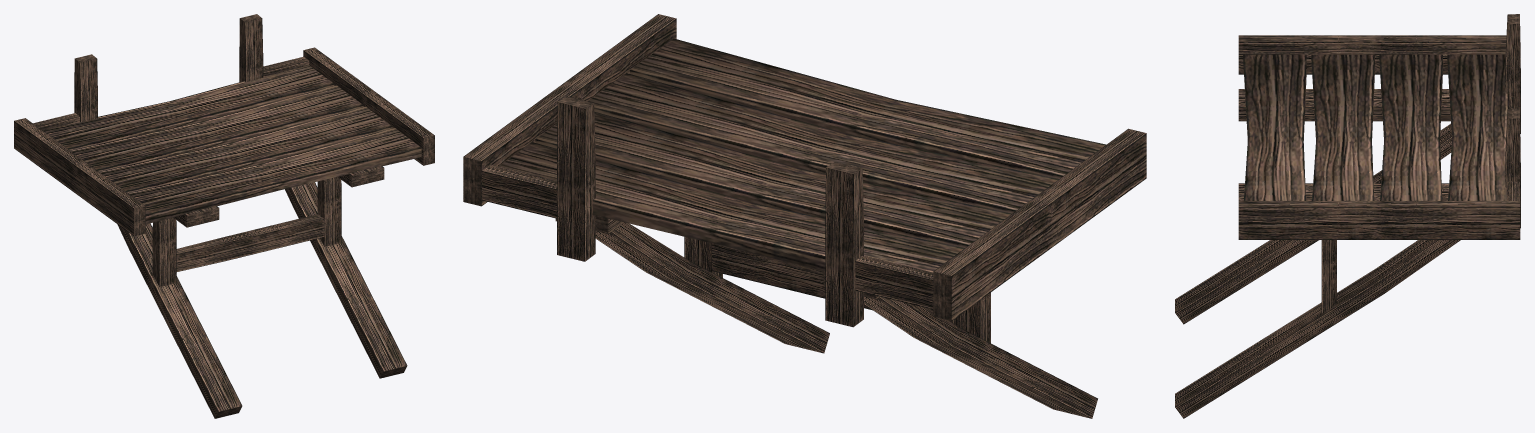
The model's file is CB_LOOKOUT_LDERPLATFORM.obj.
3 renders of one model, left to right at view 1: azimuth 30°, elevation 25°; view 2: azimuth 150°, elevation 25°; view 3: azimuth 270°, elevation 25°, orthographic. The views are drawn at different scales.
Parts seen in each view (by area): view 1: ut_lderplatform; view 2: ut_lderplatform; view 3: ut_lderplatform.
Part boxes in pixels (left/top/right/bottom): ut_lderplatform: left=14, top=14, right=434, bottom=418; ut_lderplatform: left=463, top=14, right=1146, bottom=418; ut_lderplatform: left=1175, top=14, right=1520, bottom=418.
Bounding box in the file's own units: 260 × 211 × 221.
